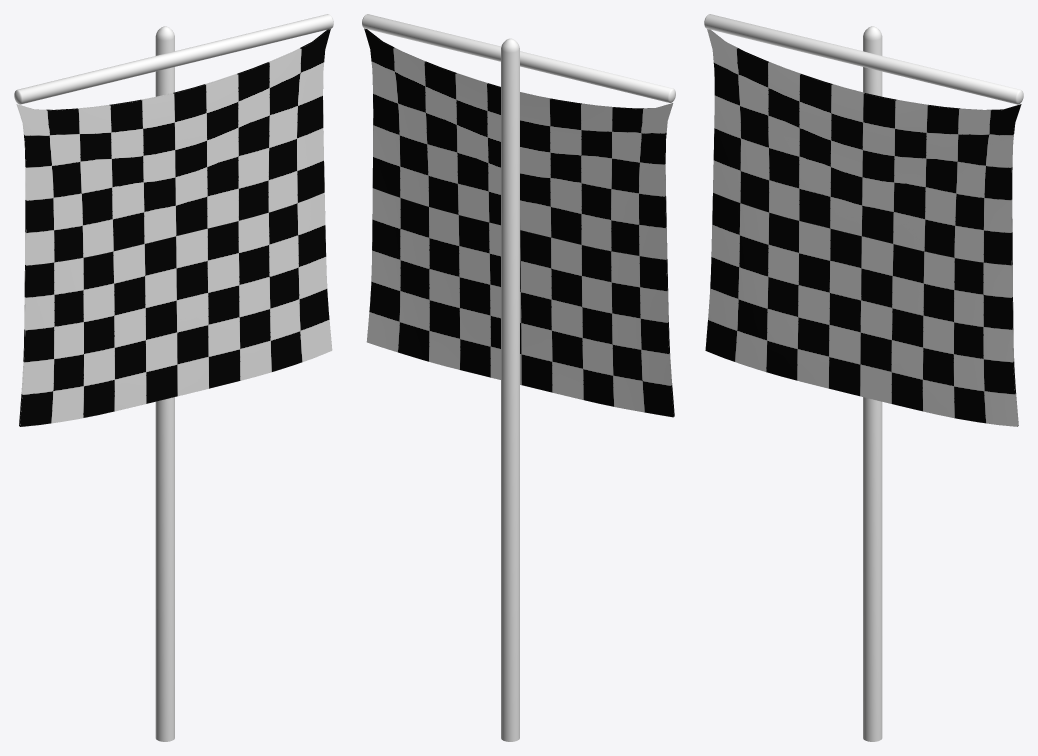
File: flag.obj
The picture shows the model from 3 angles, left to right: view 1: azimuth 30°, elevation 25°; view 2: azimuth 150°, elevation 25°; view 3: azimuth 330°, elevation 25°; orthographic projection.
Parts seen in each view (by area): view 1: flag_Cylinder; view 2: flag_Cylinder; view 3: flag_Cylinder.
Boxes of the visible parts, bbox=[...] form: flag_Cylinder: bbox=[14, 14, 333, 741]; flag_Cylinder: bbox=[362, 14, 675, 741]; flag_Cylinder: bbox=[704, 14, 1023, 741].
Bounding box in the file's own units: 2.39 × 5.13 × 0.227.
Materials: 1 (1 with a texture image).
